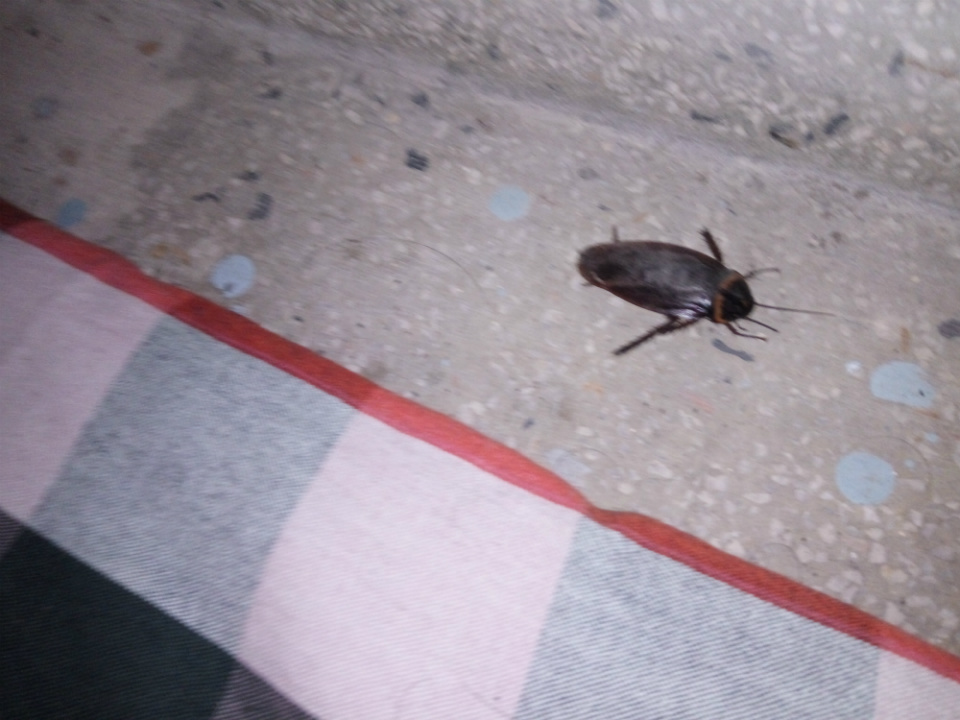cockroach: (559, 196, 861, 385)
